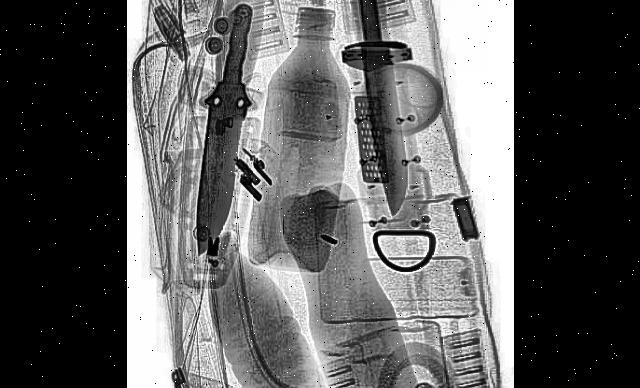Knife: (324, 0, 431, 230), (183, 0, 264, 267)
